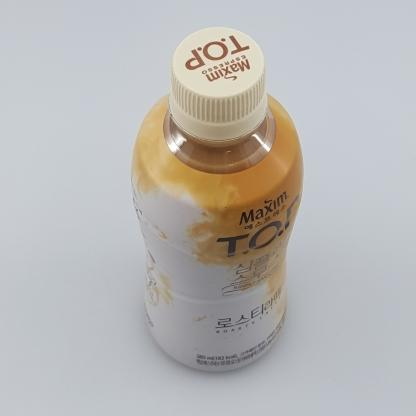--------TOP-----------: (130, 26, 304, 372)
